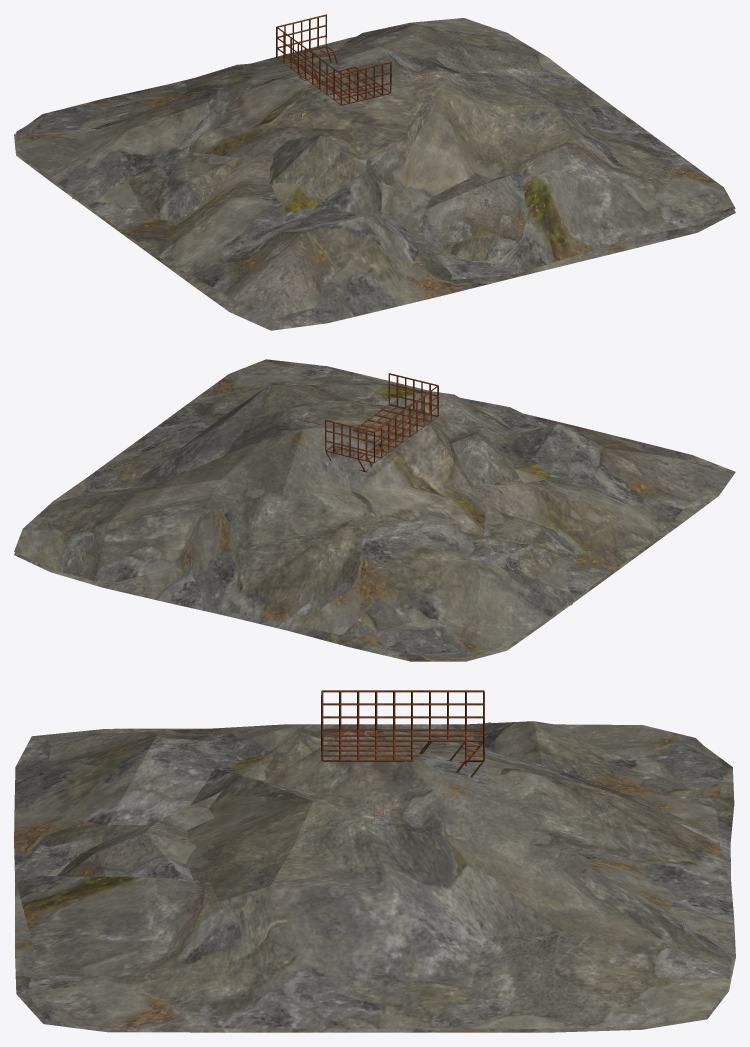
Rendered from wreckage_1.glb.
3 renders of one model, top to bottom at view 1: azimuth 30°, elevation 25°; view 2: azimuth 150°, elevation 25°; view 3: azimuth 270°, elevation 25°, orthographic. The views are drawn at different scales.
Parts seen in each view (by area): view 1: Wreckage 2, Wreckage 3, Wreckage 1, FireStairs; view 2: Wreckage 2, Wreckage 1, Wreckage 3, FireStairs; view 3: Wreckage 2, Wreckage 1, Wreckage 3, FireStairs.
Part boxes in pixels (x1,y1,x2,y2): Wreckage 2: (16,18,735,319); Wreckage 3: (72,132,527,261); Wreckage 1: (14,36,735,330); FireStairs: (276,14,391,105); Wreckage 2: (14,359,718,657); Wreckage 1: (14,365,735,661); Wreckage 3: (367,391,578,605); FireStairs: (325,373,438,472); Wreckage 2: (15,721,732,1029); Wreckage 1: (14,728,735,1032); Wreckage 3: (57,722,492,879); FireStairs: (321,690,484,777).
Size of the model in its own units: 20.22 by 4.91 by 20.08.
3 materials, 3 textured.
